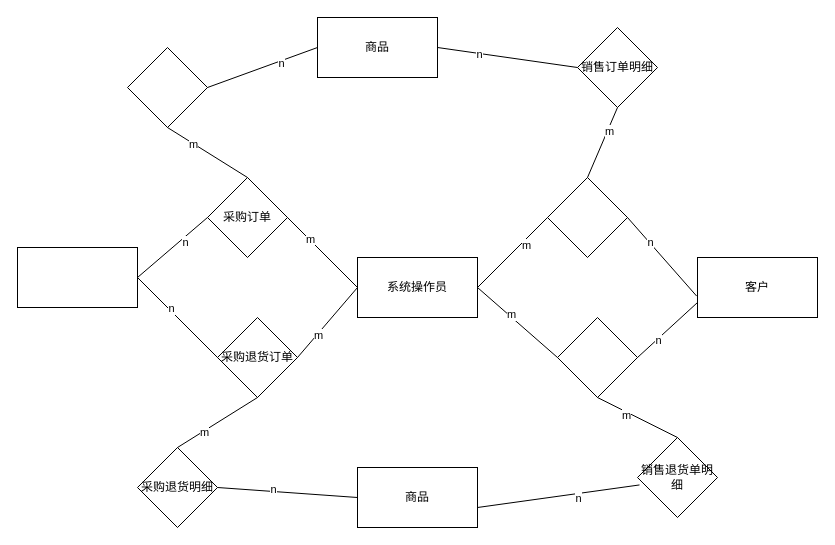
This 835x545 diagram has some shape labels left out. Each missing label, with the centre of its shape:
供应商: point 77,277
采购订单明细: point 167,87
销售订单: point 587,217
销售退货订单: point 597,357
